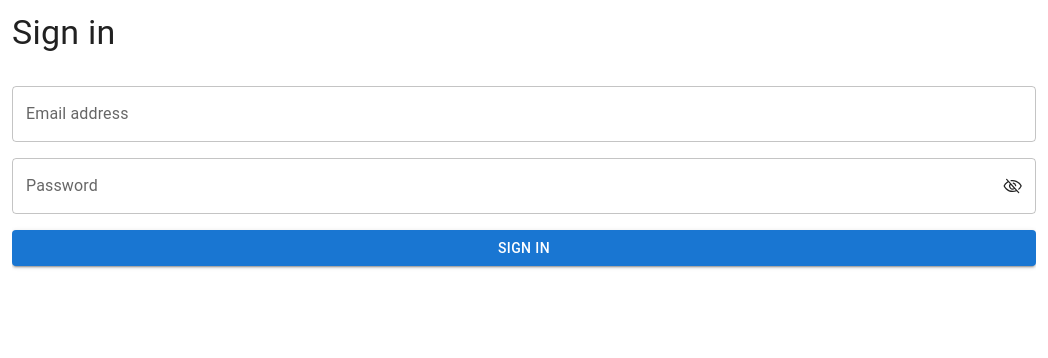
Test case: SignInForm - Critical Tests › ✅ CRITICAL: Failed Login Flow › should display error message when login fails
Type "wrong@test.com" into the field named "email" at (524, 114), box [12,86,1036,142]
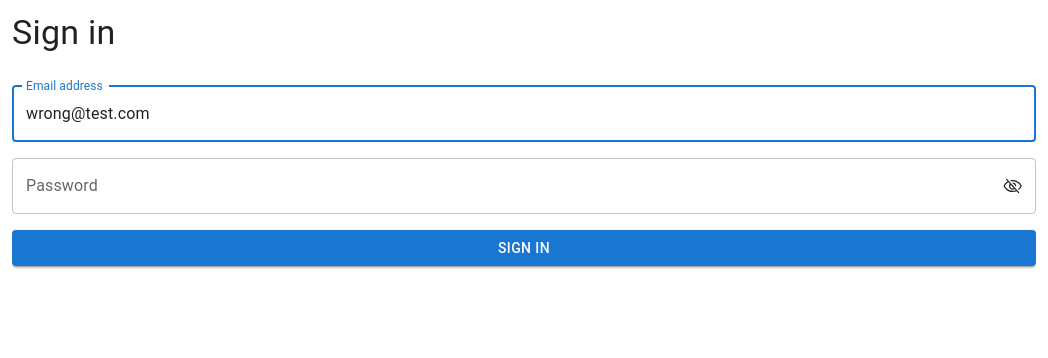
Type "wrongpassword" into the password field named "password" at (507, 186), box [12,158,1003,214]
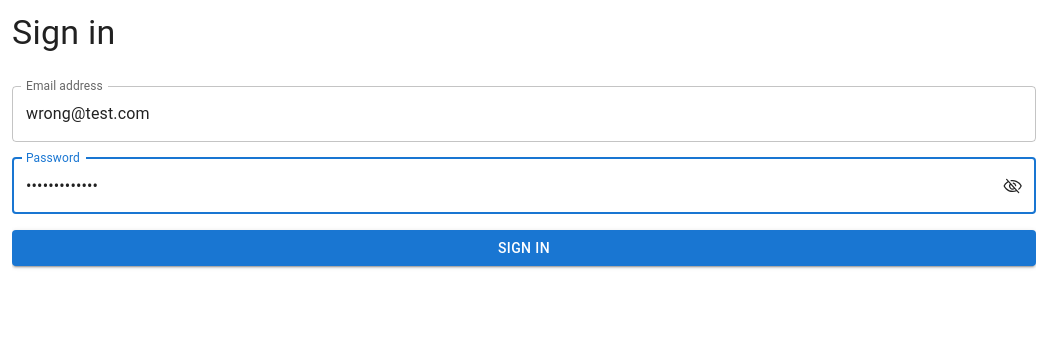
Click the button "Sign in" at (524, 248), box [12,230,1036,266]
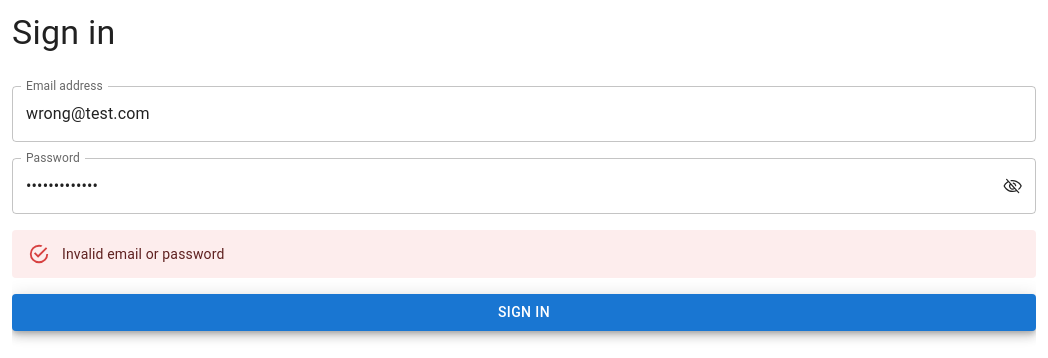
Now the text "Invalid email or password" is shown, box [62,246,224,262]
